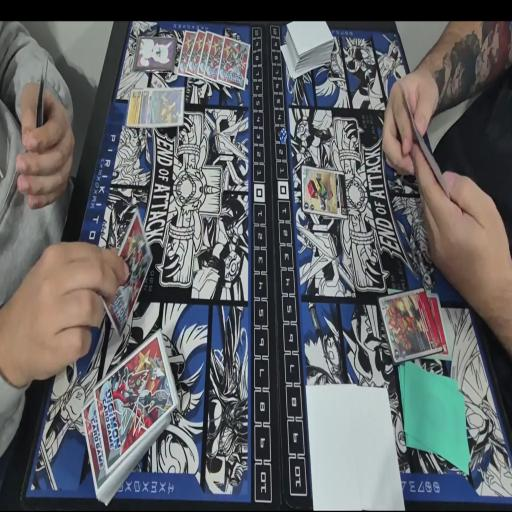card: (378, 289, 442, 361), (300, 165, 348, 219), (140, 85, 186, 128), (426, 290, 450, 364), (125, 88, 143, 130)
